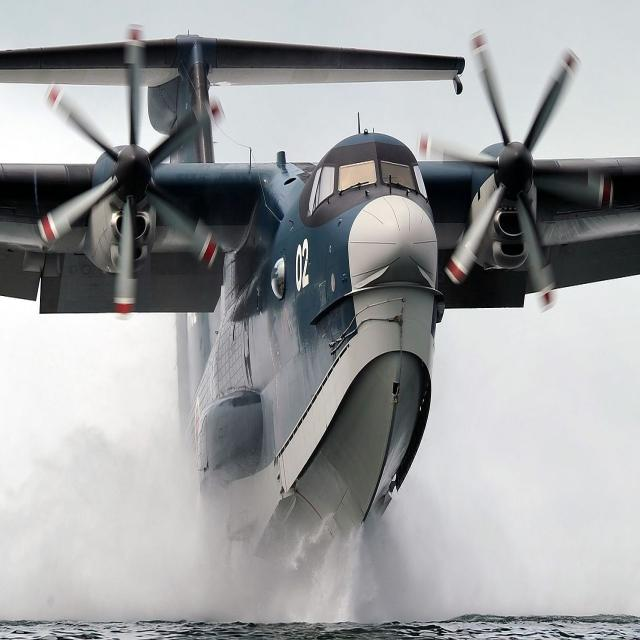MIL_Plane: (0, 23, 640, 582)
